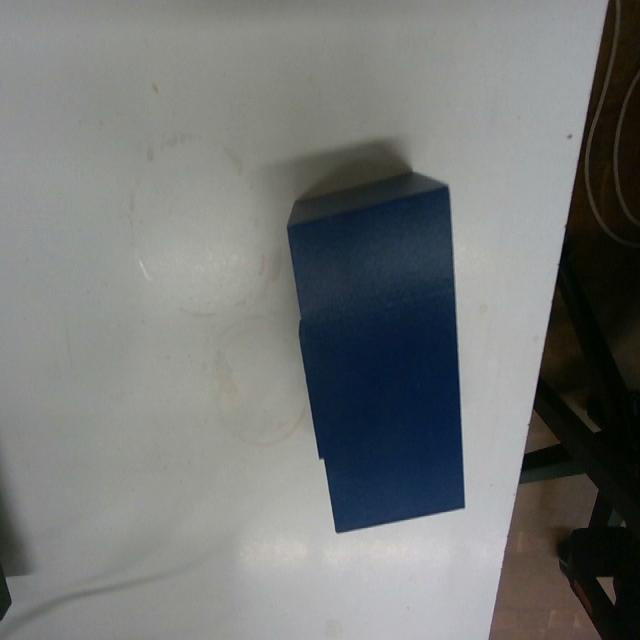Blue Cuboid: (283, 166, 468, 534)
